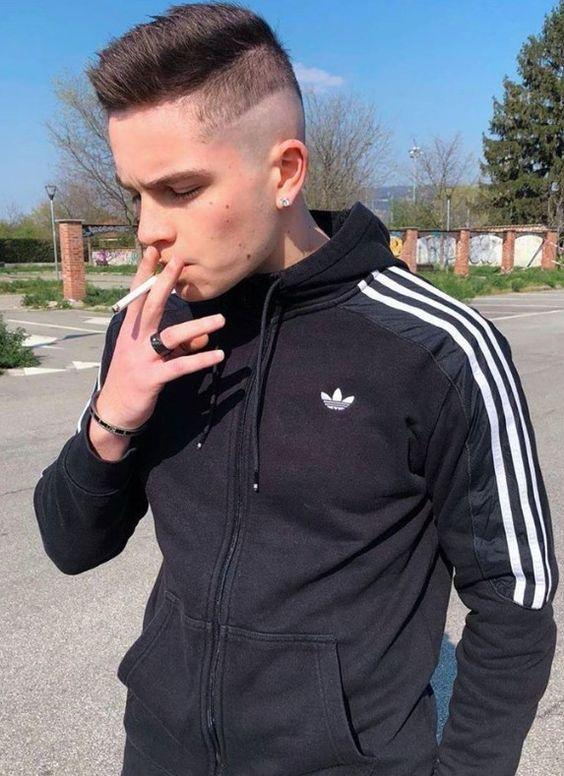cigarette: (112, 272, 162, 314)
